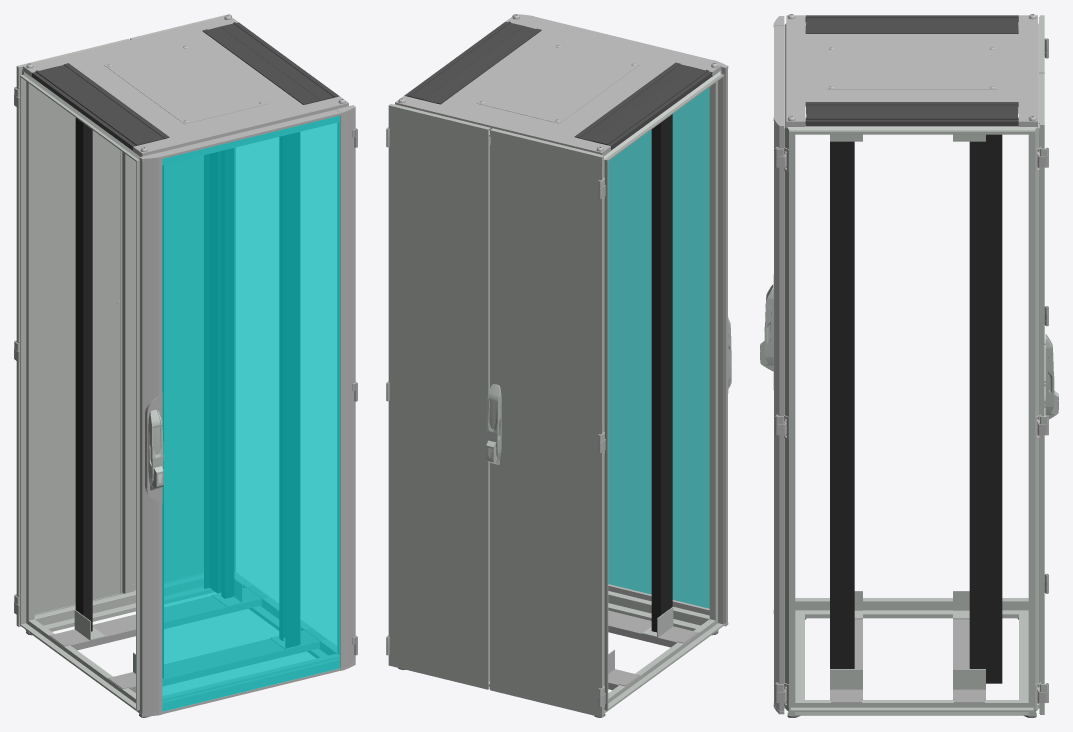
The picture shows the model from 3 angles, left to right: view 1: azimuth 30°, elevation 25°; view 2: azimuth 150°, elevation 25°; view 3: azimuth 270°, elevation 25°; orthographic projection. The views are drawn at different scales.
Visible parts, largest first — view 1: 880X_00_37, 580X_00_16_VXIT(2,RAL 7035), 880X_00_35_VXIT (2,RAL 7035), 580X_00_17_VXIT(2,RAL 7035), 20VD2HD2H(2,RAL 7035) (×2), 8808_00_01_M51R(2), 58X8_00_26_VX_IT_(2,RAL 7035), 20VD2HD2(2,RAL 7035) (×2), 8QO(2,RAL 7035) (×2), 58XX_00_18_VX_IT_(2) (×2), 58XX_00_19_VX_IT_(2) (×2), 880X_00_35_HA_VXIT (2,RAL 7035) (+2 smaller); view 2: 580X_00_16_VXIT(2,RAL 7035), 580X_00_17_VXIT(2,RAL 7035), 880X_00_37, 58X8_00_26_VX_IT_(2,RAL 7035), 8808_00_01_M51R(2), 20VD2HD2(2,RAL 7035), 58XX_00_18_VX_IT_(2) (×2), 880X_00_35_VXIT (2,RAL 7035), 58XX_00_19_VX_IT_(2) (×2), 8QO(2,RAL 7035), 8618.250_p1, 8618.250_p2; view 3: 8808_00_01_M51R(2), 58X8_00_26_VX_IT_(2,RAL 7035), 20VD2HD2H(2,RAL 7035), 20VD2HD2(2,RAL 7035), 880X_00_35_VXIT (2,RAL 7035), 58XX_00_18_VX_IT_(2) (×2), 58XX_00_19_VX_IT_(2) (×2), 580X_00_17_VXIT(2,RAL 7035), 8QO(2,RAL 7035) (×2), BWQ(2,RAL 7035) (×3), 8618.250_p1 (×2).
Boxes of the visible parts, <box> form: 880X_00_37: <box>162,115,340,711</box>; 580X_00_16_VXIT(2,RAL 7035): <box>16,38,129,626</box>; 880X_00_35_VXIT (2,RAL 7035): <box>139,105,355,716</box>; 580X_00_17_VXIT(2,RAL 7035): <box>122,14,231,593</box>; 20VD2HD2H(2,RAL 7035) (×2): <box>75,118,233,631</box>; 8808_00_01_M51R(2): <box>20,71,338,713</box>; 58X8_00_26_VX_IT_(2,RAL 7035): <box>23,15,348,156</box>; 20VD2HD2(2,RAL 7035) (×2): <box>162,132,299,677</box>; 8QO(2,RAL 7035) (×2): <box>49,586,325,692</box>; 58XX_00_18_VX_IT_(2) (×2): <box>32,22,339,150</box>; 58XX_00_19_VX_IT_(2) (×2): <box>52,26,321,142</box>; 880X_00_35_HA_VXIT (2,RAL 7035): <box>145,393,162,502</box>; 580X_00_16_VXIT(2,RAL 7035): <box>490,128,603,717</box>; 580X_00_17_VXIT(2,RAL 7035): <box>388,104,490,689</box>; 880X_00_37: <box>608,87,709,608</box>; 58X8_00_26_VX_IT_(2,RAL 7035): <box>395,14,721,155</box>; 8808_00_01_M51R(2): <box>488,70,724,713</box>; 20VD2HD2(2,RAL 7035): <box>651,114,672,632</box>; 58XX_00_18_VX_IT_(2) (×2): <box>404,21,712,150</box>; 880X_00_35_VXIT (2,RAL 7035): <box>512,14,728,626</box>; 58XX_00_19_VX_IT_(2) (×2): <box>422,26,692,141</box>; 8QO(2,RAL 7035): <box>608,610,698,647</box>; 8618.250_p1: <box>486,384,501,464</box>; 8618.250_p2: <box>486,400,500,442</box>; 8808_00_01_M51R(2): <box>784,17,1042,715</box>; 58X8_00_26_VX_IT_(2,RAL 7035): <box>786,14,1037,126</box>; 20VD2HD2H(2,RAL 7035): <box>969,134,1002,683</box>; 20VD2HD2(2,RAL 7035): <box>830,141,854,668</box>; 880X_00_35_VXIT (2,RAL 7035): <box>773,16,784,714</box>; 58XX_00_18_VX_IT_(2) (×2): <box>805,15,1018,126</box>; 58XX_00_19_VX_IT_(2) (×2): <box>805,24,1018,113</box>; 580X_00_17_VXIT(2,RAL 7035): <box>1039,73,1044,714</box>; 8QO(2,RAL 7035) (×2): <box>830,619,985,702</box>; BWQ(2,RAL 7035) (×3): <box>830,591,985,689</box>; 8618.250_p1 (×2): <box>760,284,1058,419</box>.
Bounding box in the file's own units: 0.7997 × 2.02 × 0.9104.
